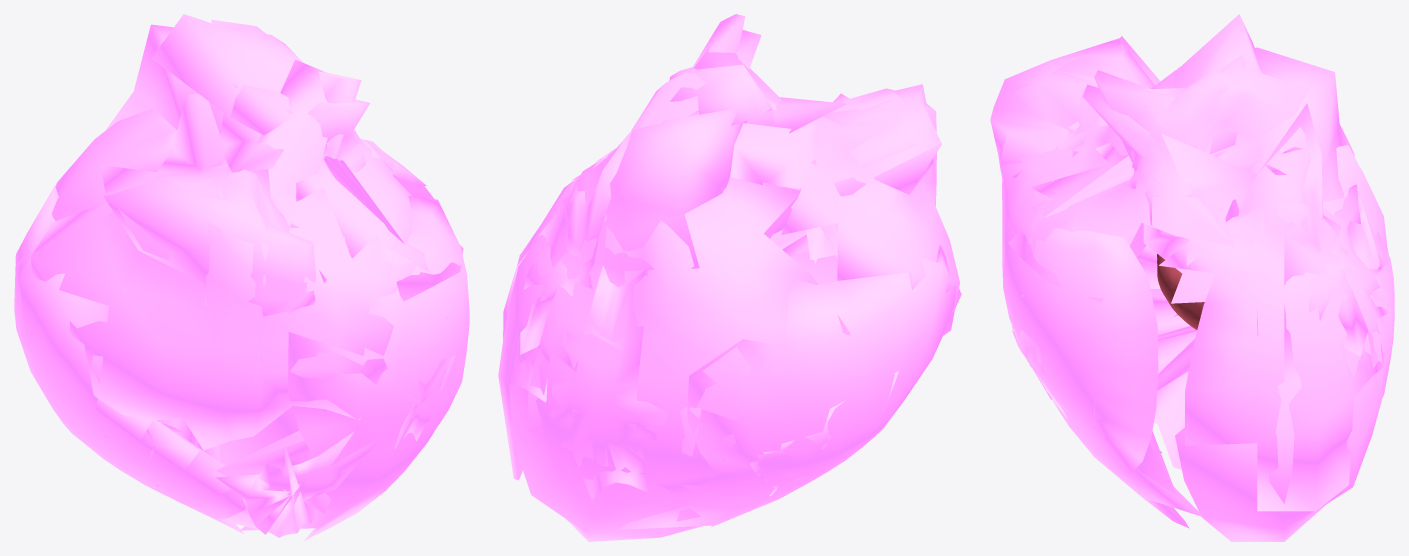
File: heart-organ-progressing.glb
3 views of the same model, side by side, from view 1: azimuth 30°, elevation 25°; view 2: azimuth 150°, elevation 25°; view 3: azimuth 270°, elevation 25° (orthographic). The views are drawn at different scales.
Visible parts, largest first — view 1: Amyloid_1, Amyloid_0, Amyloid_4, Amyloid_3, Amyloid_2, Amyloid_5, Amyloid_6; view 2: Amyloid_2, Amyloid_3, Amyloid_1, Amyloid_6, Amyloid_4, Amyloid_0; view 3: Amyloid_6, Amyloid_0, Amyloid_4, Amyloid_2, Amyloid_1, Amyloid_3, mesh_base_material_0.
Boxes of the visible parts, left/top/right/bottom form: Amyloid_1: left=31, top=59, right=447, bottom=450; Amyloid_0: left=216, top=195, right=469, bottom=541; Amyloid_4: left=151, top=14, right=463, bottom=301; Amyloid_3: left=14, top=186, right=246, bottom=533; Amyloid_2: left=18, top=108, right=299, bottom=465; Amyloid_5: left=216, top=431, right=383, bottom=537; Amyloid_6: left=105, top=24, right=433, bottom=198; Amyloid_2: left=503, top=157, right=850, bottom=541; Amyloid_3: left=617, top=244, right=961, bottom=529; Amyloid_1: left=694, top=46, right=959, bottom=335; Amyloid_6: left=498, top=85, right=757, bottom=480; Amyloid_4: left=572, top=14, right=846, bottom=179; Amyloid_0: left=770, top=208, right=841, bottom=284; Amyloid_6: left=1143, top=47, right=1390, bottom=511; Amyloid_0: left=1002, top=196, right=1204, bottom=528; Amyloid_4: left=1008, top=14, right=1309, bottom=302; Amyloid_2: left=1175, top=145, right=1394, bottom=541; Amyloid_1: left=990, top=36, right=1186, bottom=296; Amyloid_3: left=1137, top=245, right=1197, bottom=469; mesh_base_material_0: left=1157, top=254, right=1204, bottom=329.
Size of the model in its own units: 7 by 8.62 by 6.71.
